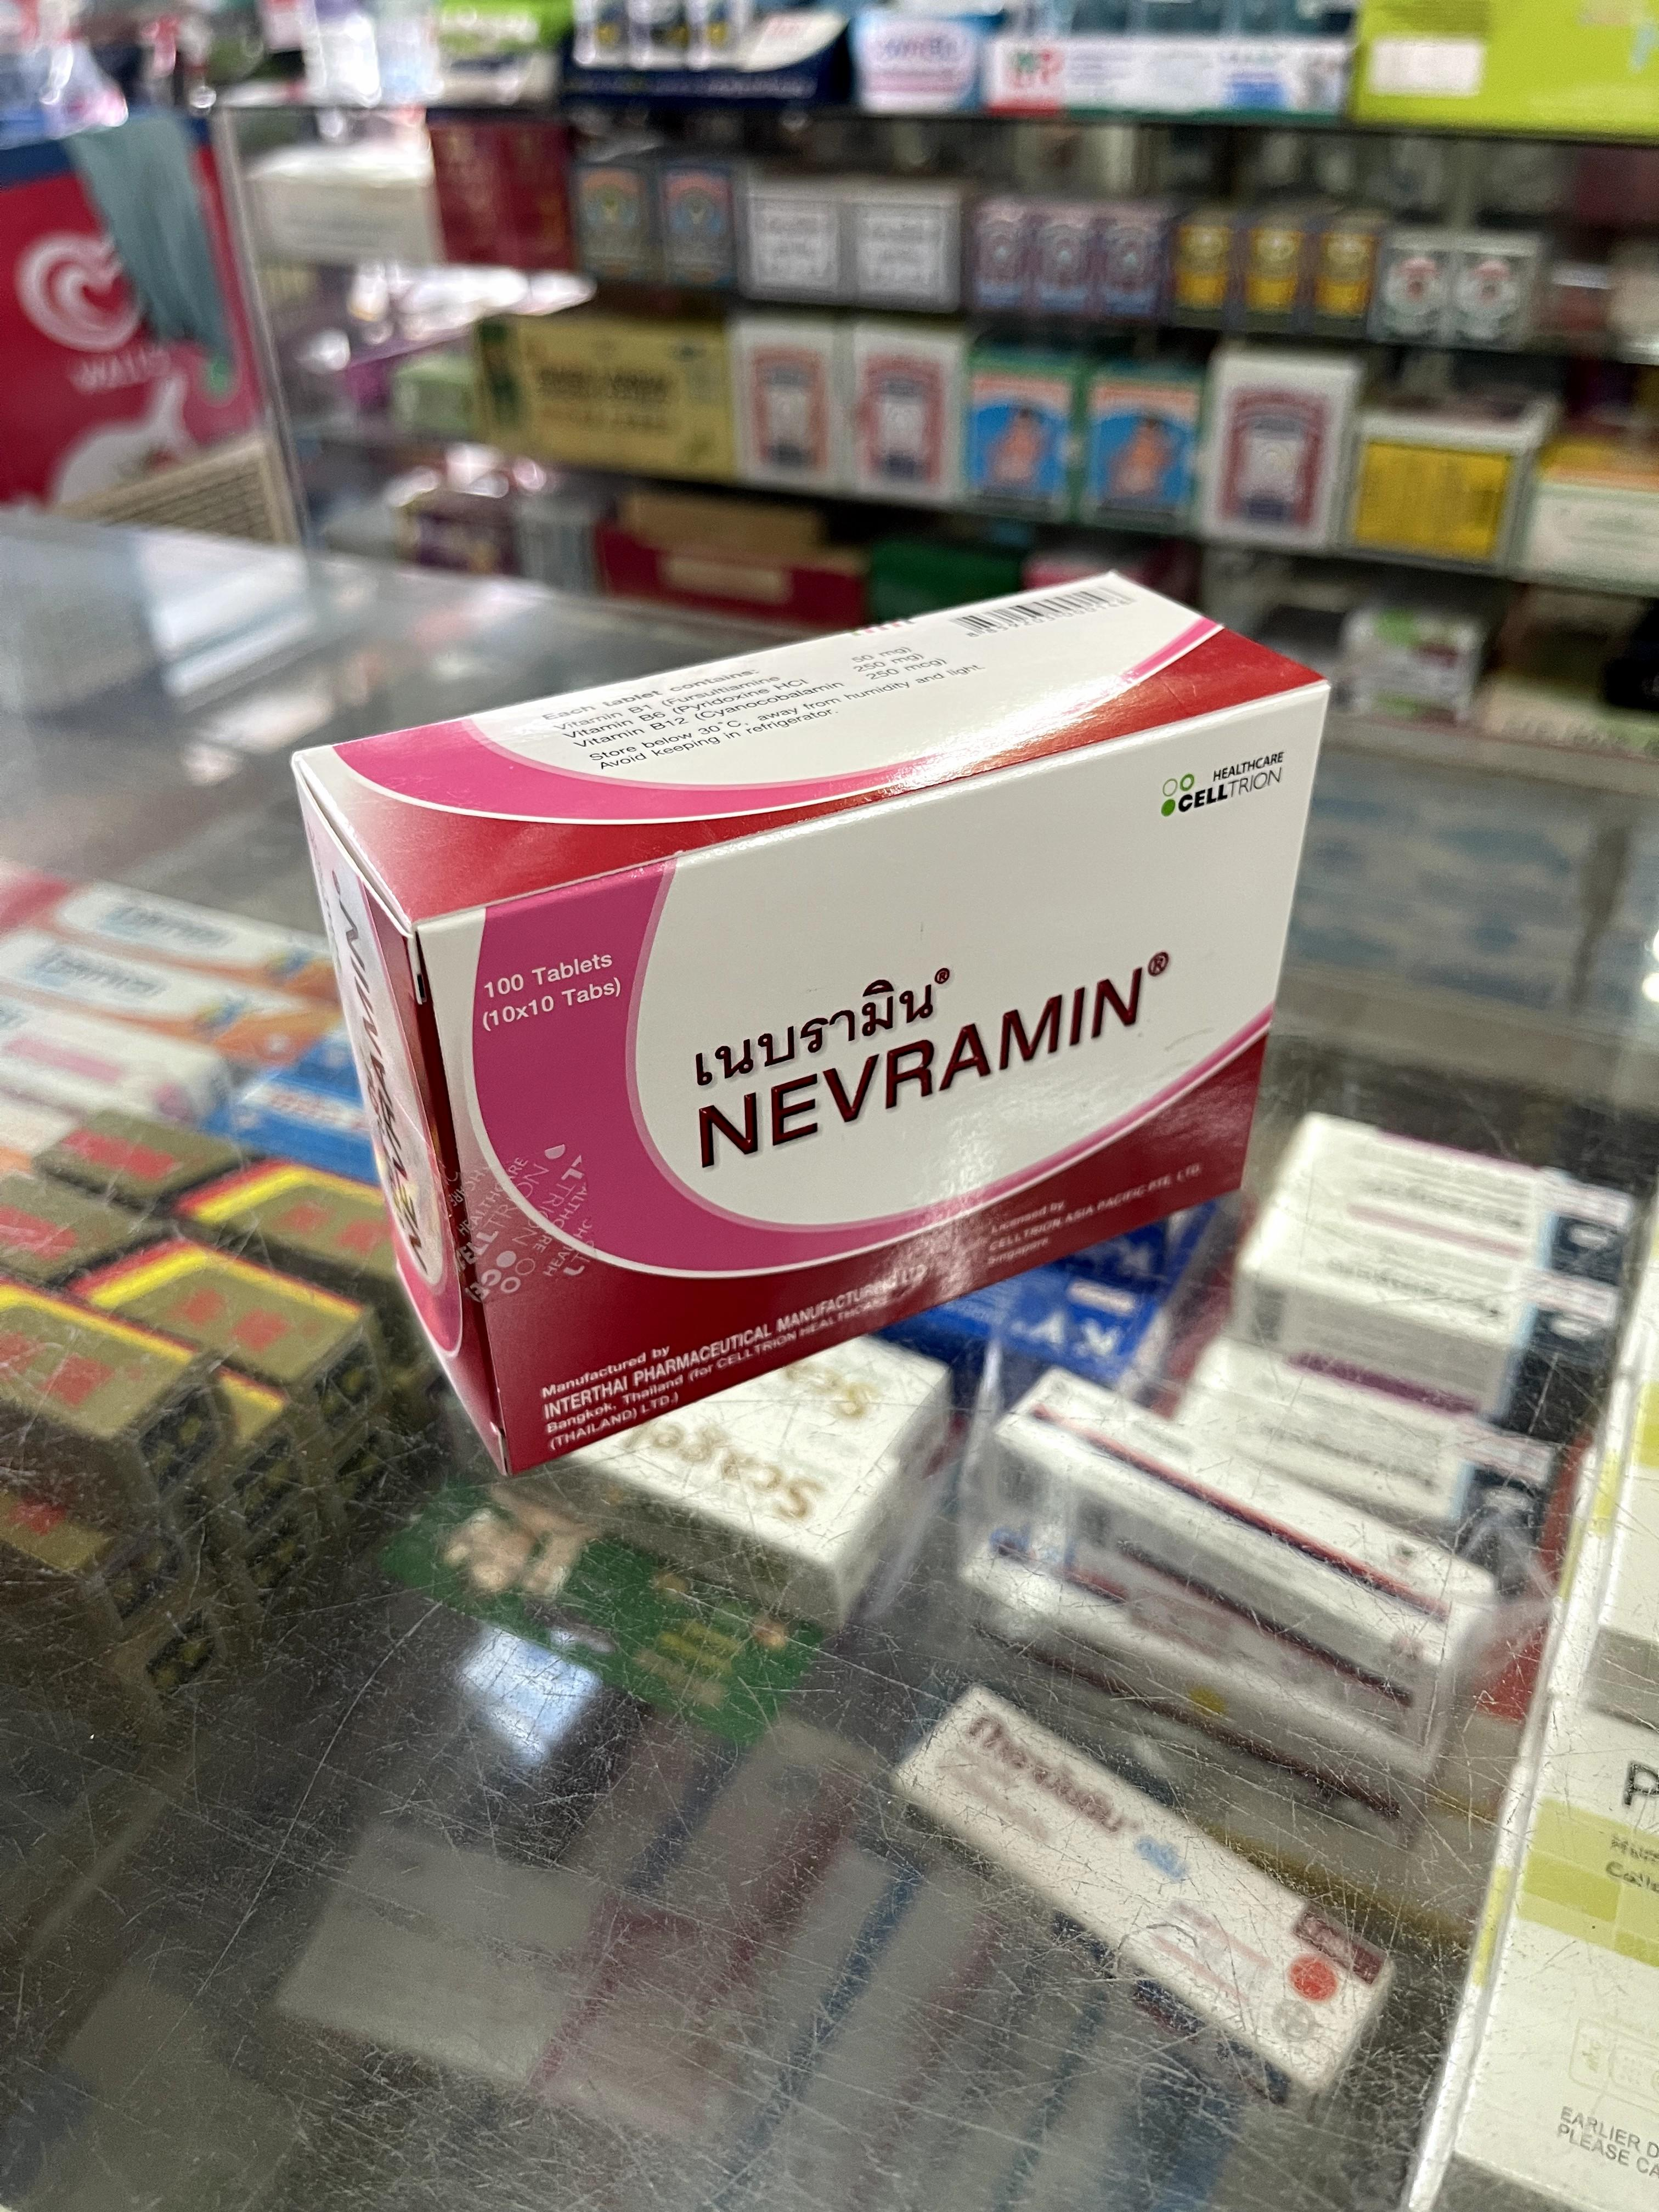Nevramin: (293, 578, 1328, 1465)
